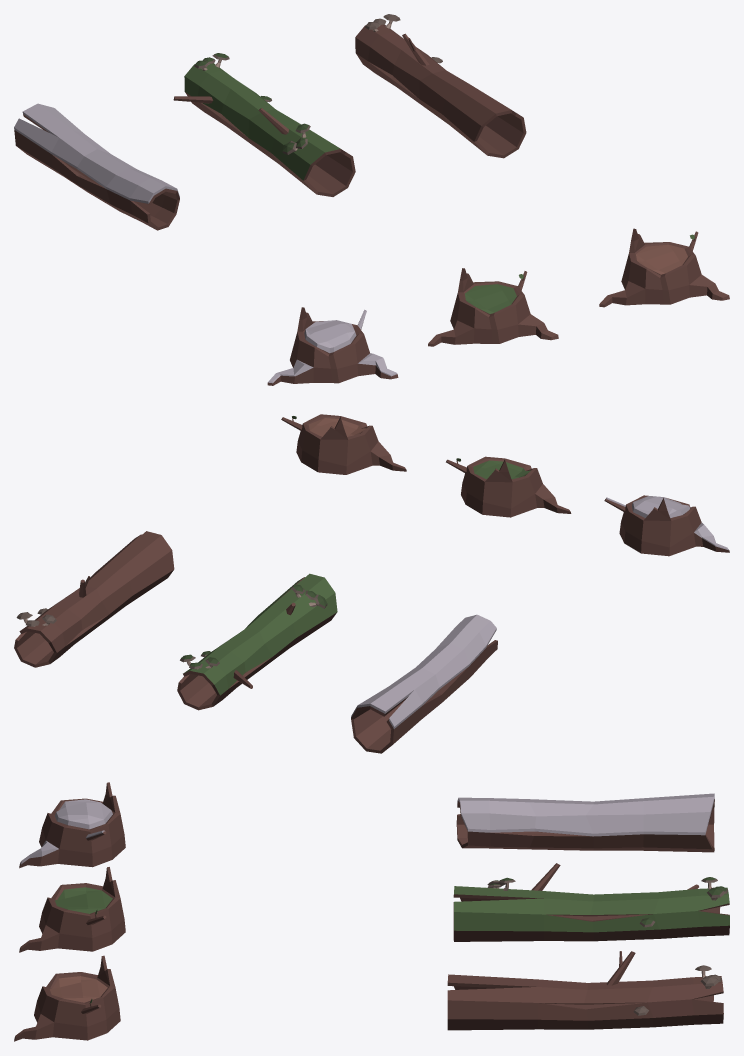
The model's file is wood-logs.glb.
3 renders of one model, top to bottom at view 1: azimuth 30°, elevation 25°; view 2: azimuth 150°, elevation 25°; view 3: azimuth 270°, elevation 25°, orthographic. The views are drawn at different scales.
Visible parts, largest first — view 1: WoodLog_Moss, WoodLog, WoodLog_Snow, TreeStump_Snow, TreeStump, TreeStump_Moss; view 2: WoodLog, WoodLog_Moss, WoodLog_Snow, TreeStump_Snow, TreeStump_Moss, TreeStump; view 3: WoodLog_Moss, WoodLog, WoodLog_Snow, TreeStump_Snow, TreeStump, TreeStump_Moss.
Part boxes in pixels (x1,y1,x2,y2): WoodLog_Moss: [173, 53, 355, 196]; WoodLog: [355, 14, 526, 158]; WoodLog_Snow: [14, 103, 179, 230]; TreeStump_Snow: [267, 307, 398, 385]; TreeStump: [599, 228, 729, 307]; TreeStump_Moss: [428, 268, 558, 346]; WoodLog: [14, 531, 174, 667]; WoodLog_Moss: [177, 573, 337, 710]; WoodLog_Snow: [351, 614, 497, 753]; TreeStump_Snow: [604, 495, 729, 556]; TreeStump_Moss: [446, 456, 571, 517]; TreeStump: [281, 414, 406, 474]; WoodLog_Moss: [453, 863, 729, 941]; WoodLog: [447, 951, 723, 1030]; WoodLog_Snow: [456, 793, 714, 852]; TreeStump_Snow: [19, 782, 125, 868]; TreeStump: [14, 955, 120, 1041]; TreeStump_Moss: [19, 867, 125, 952].
Bounding box in the file's own units: 6.34 × 0.9121 × 8.23.
